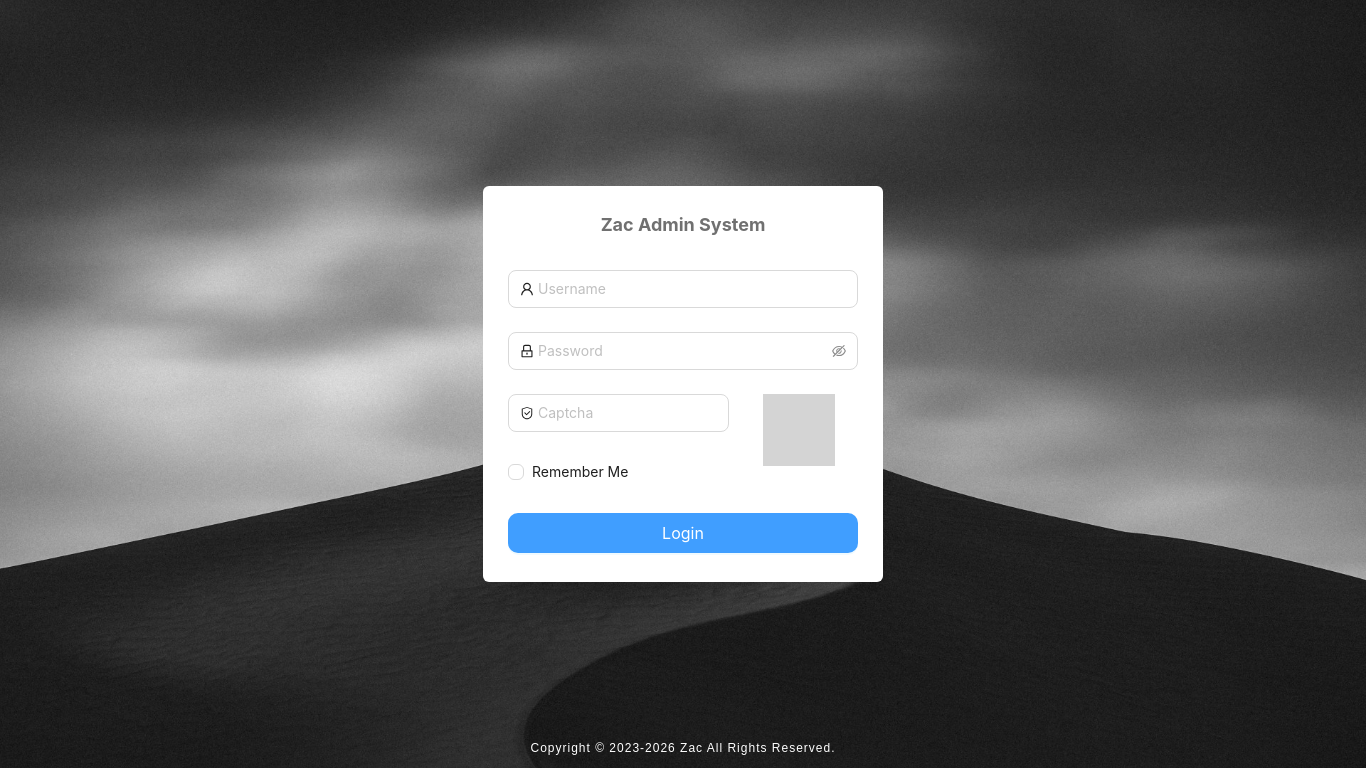
login › shows the retry hint on 429 and fetches a new captcha
This screenshot has width=1366, height=768.
Type "admin" into the field named "账号".
click(692, 289); type("admin")  # box [538,275,846,303]
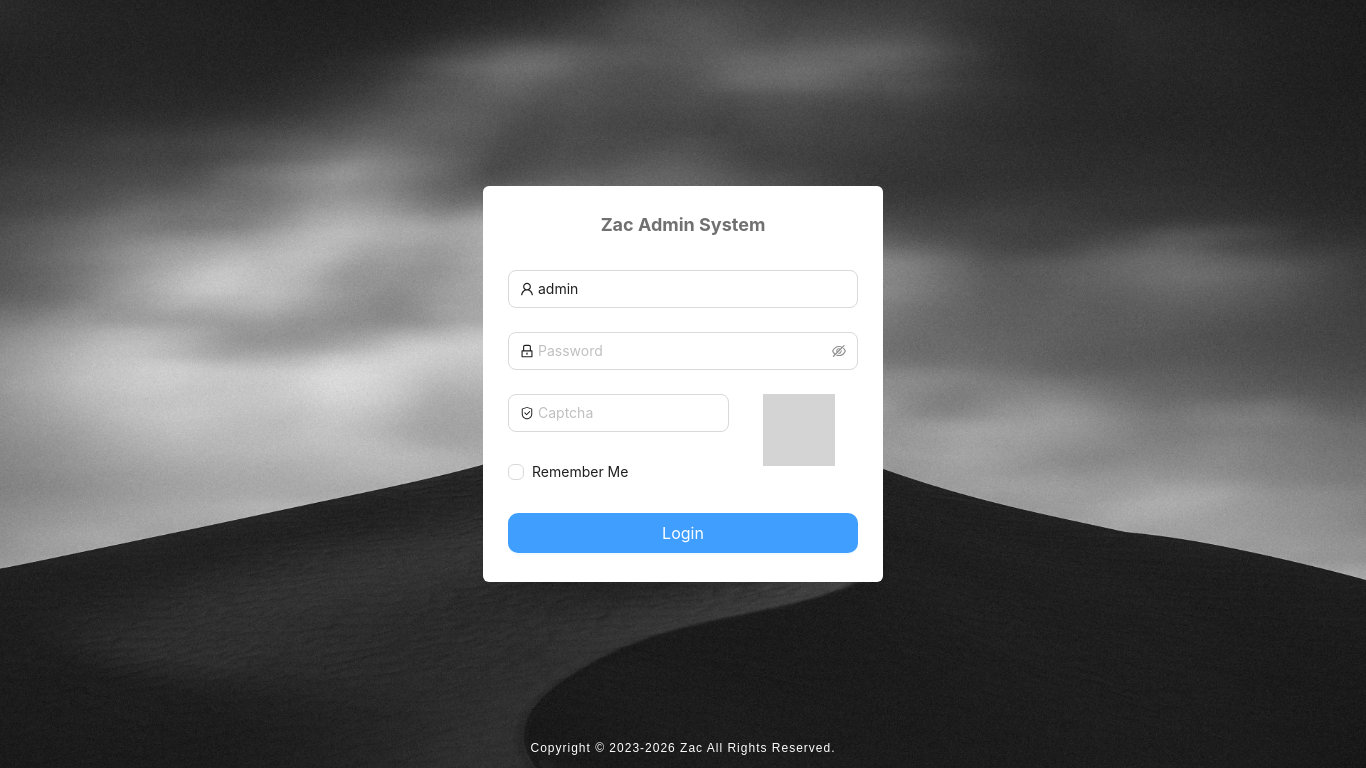
Type "test-only-password" into the password field named "密码".
click(683, 351); type("test-only-password")  # box [538,337,828,365]
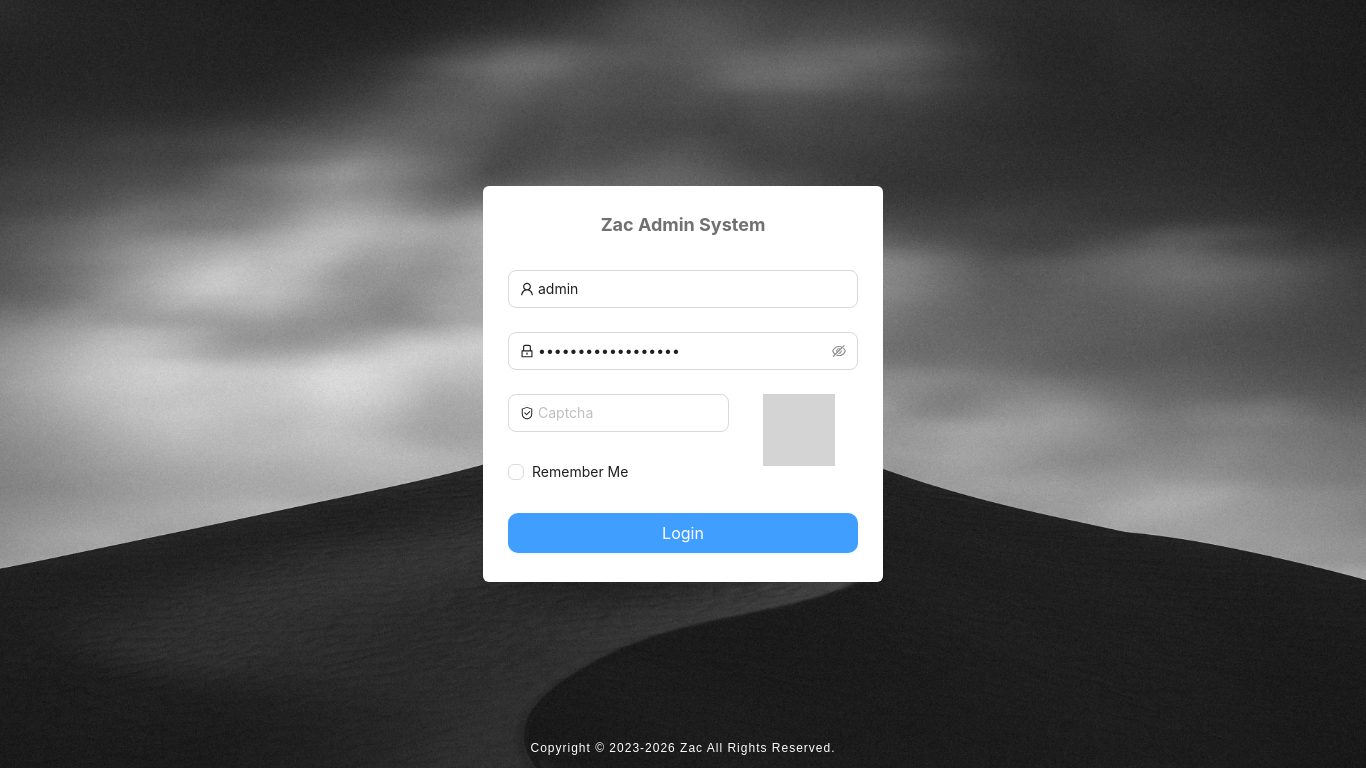
Type "7" into the field named "验证码".
click(627, 413); type("7")  # box [538,399,716,427]
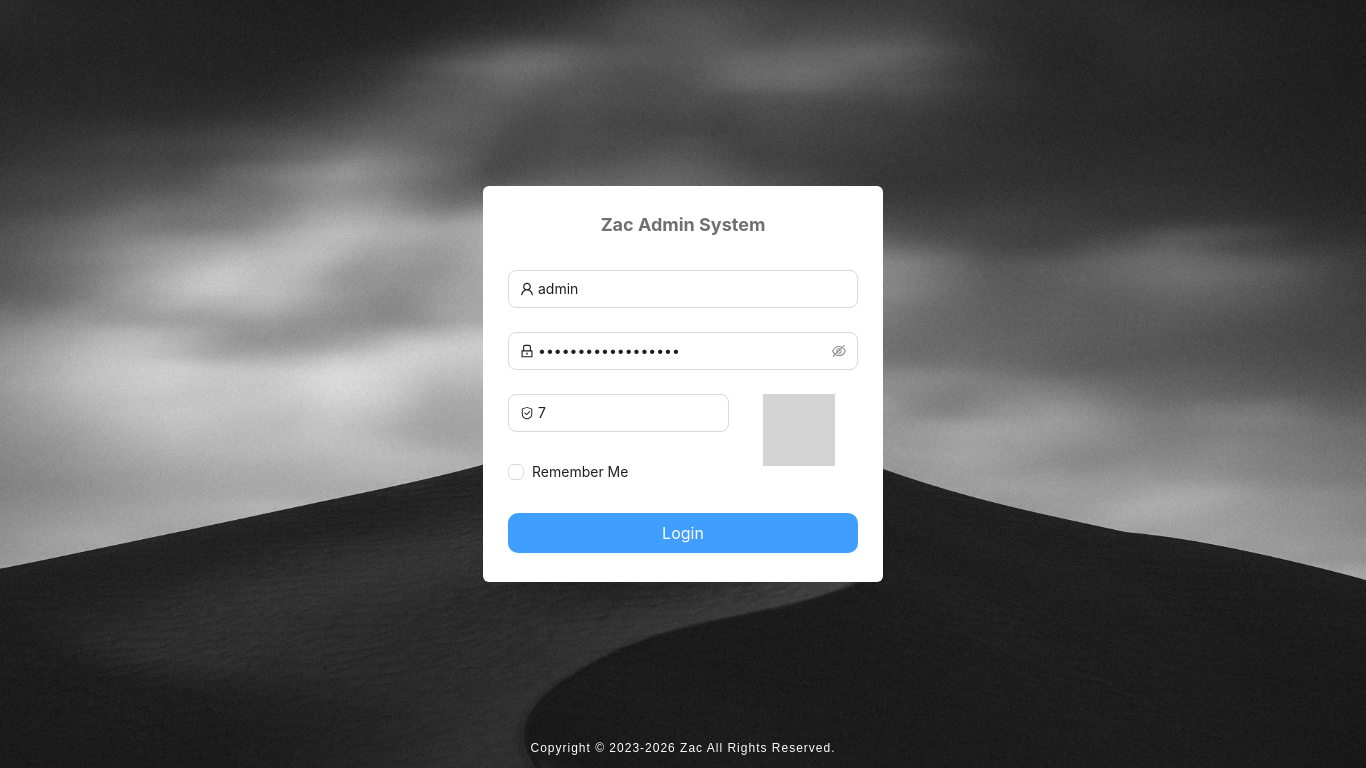
Click the button "Login".
click(683, 533)  # box [508,513,858,553]
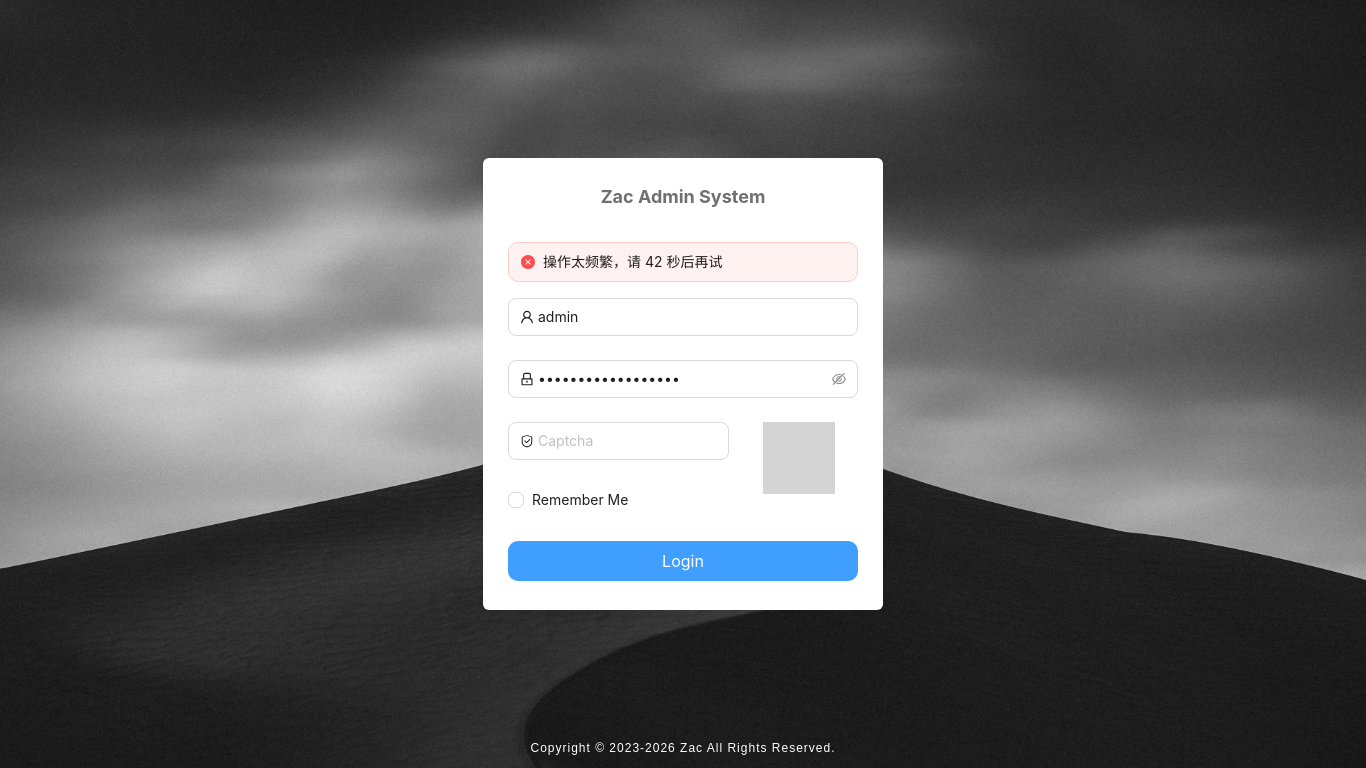
Expected: the text "操作太频繁，请 42 秒后再试" is shown, [543,253,722,270]
